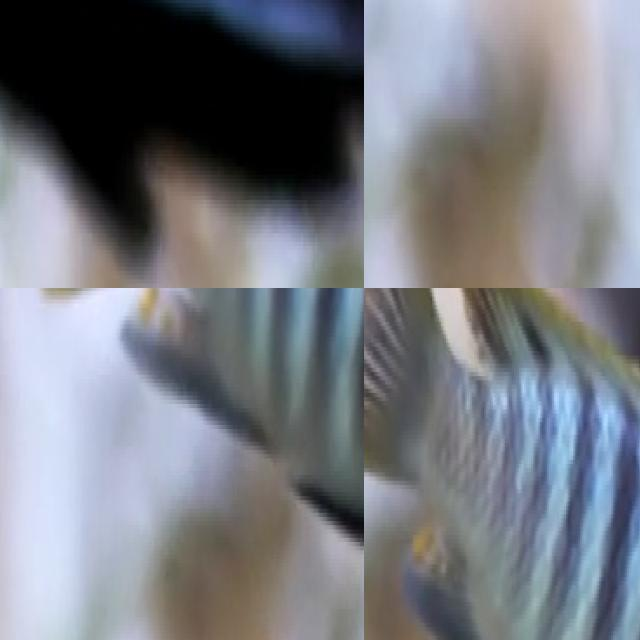fish: (9, 288, 364, 640), (0, 0, 364, 288)
